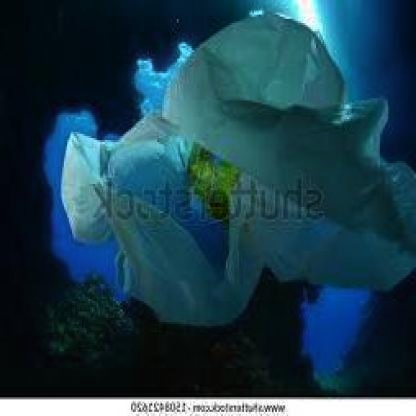pbag: (60, 14, 416, 328)
